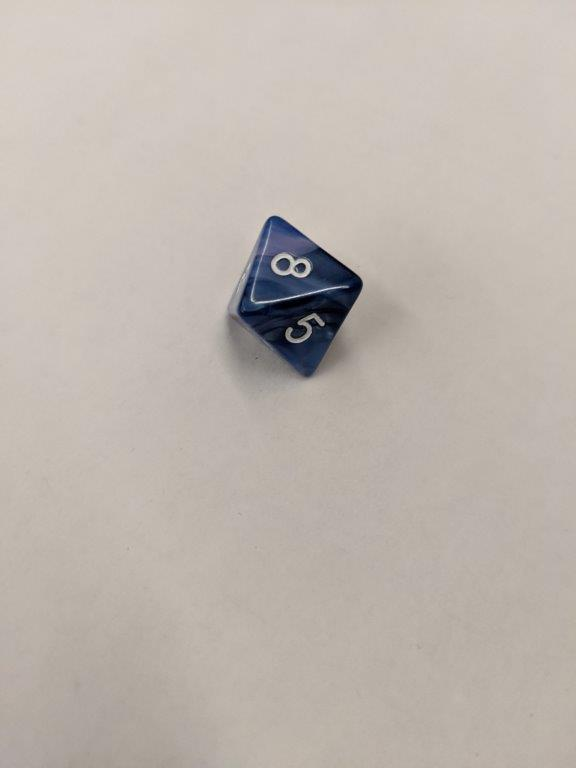d8-8: (227, 213, 366, 382)
